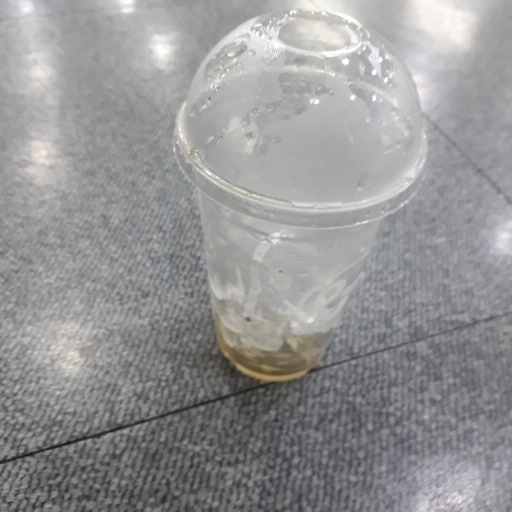Plastic_2: (168, 5, 428, 382)
